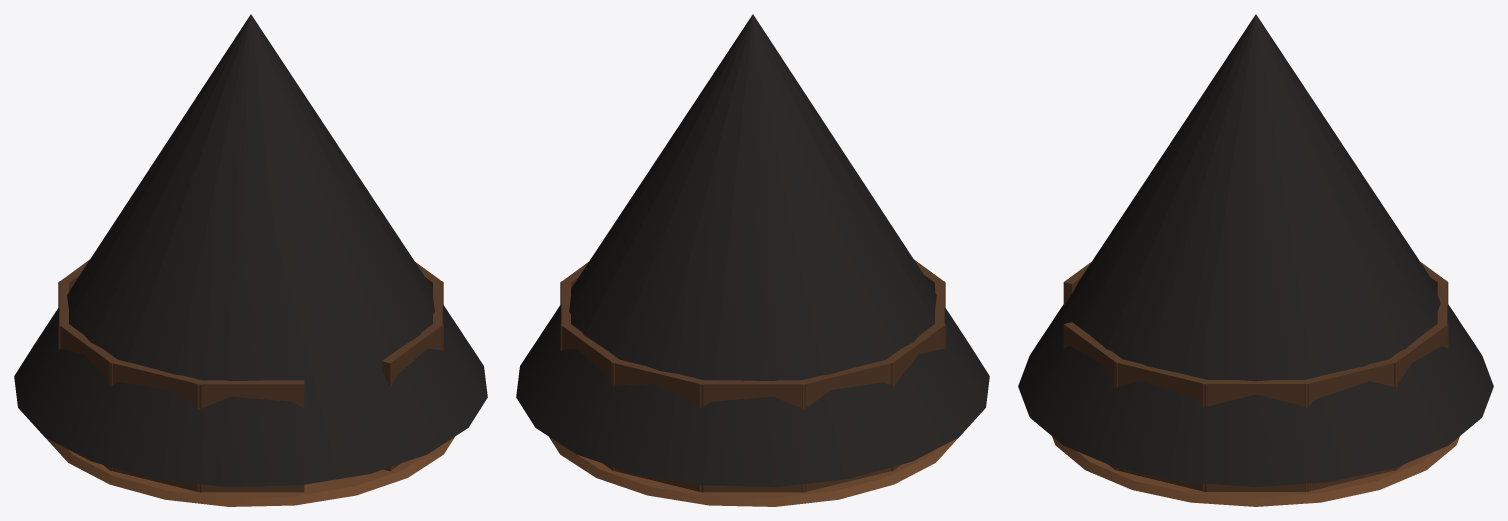
The model's file is tambi-lore.glb.
3 renders of one model, left to right at view 1: azimuth 30°, elevation 25°; view 2: azimuth 150°, elevation 25°; view 3: azimuth 270°, elevation 25°, orthographic.
Visible parts, largest first — view 1: ROOF_SYSTEM, WALL_SYSTEM, FLOOR_SYSTEM; view 2: ROOF_SYSTEM, WALL_SYSTEM, FLOOR_SYSTEM; view 3: ROOF_SYSTEM, WALL_SYSTEM, FLOOR_SYSTEM.
Part boxes in pixels (left/top/right/bottom): ROOF_SYSTEM: left=14, top=14, right=487, bottom=486; WALL_SYSTEM: left=58, top=259, right=443, bottom=492; FLOOR_SYSTEM: left=45, top=437, right=454, bottom=506; ROOF_SYSTEM: left=516, top=14, right=989, bottom=486; WALL_SYSTEM: left=560, top=259, right=945, bottom=492; FLOOR_SYSTEM: left=549, top=437, right=958, bottom=506; ROOF_SYSTEM: left=1018, top=14, right=1493, bottom=486; WALL_SYSTEM: left=1063, top=262, right=1448, bottom=491; FLOOR_SYSTEM: left=1052, top=436, right=1459, bottom=506.
Size of what is drawn, in the model's own units: 8.8 by 8.24 by 8.8.
